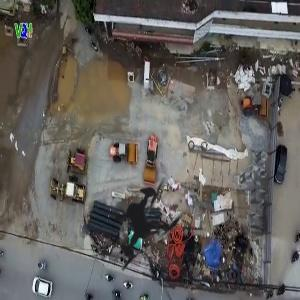drone: (73, 154, 217, 298)
